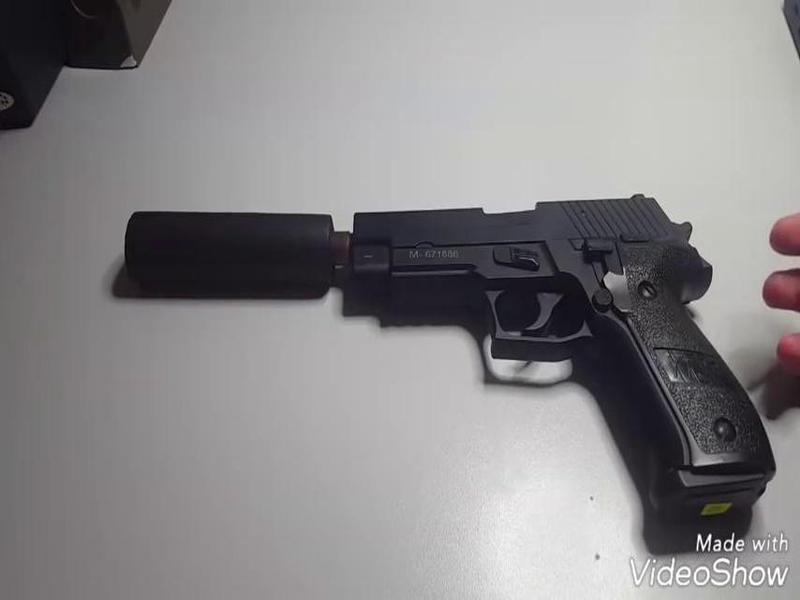Pistola: (118, 175, 786, 518)
